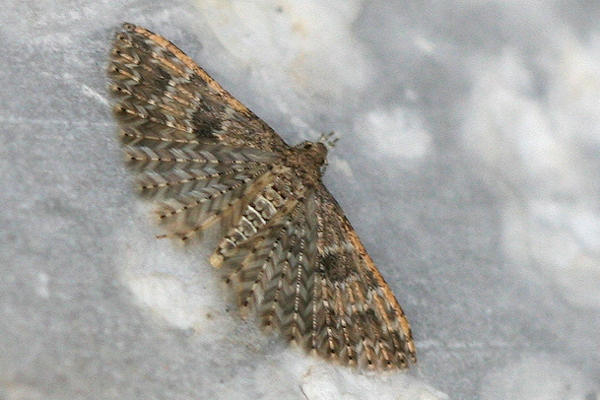Alucitidae: (100, 14, 418, 369)
moth: (102, 16, 420, 371)
